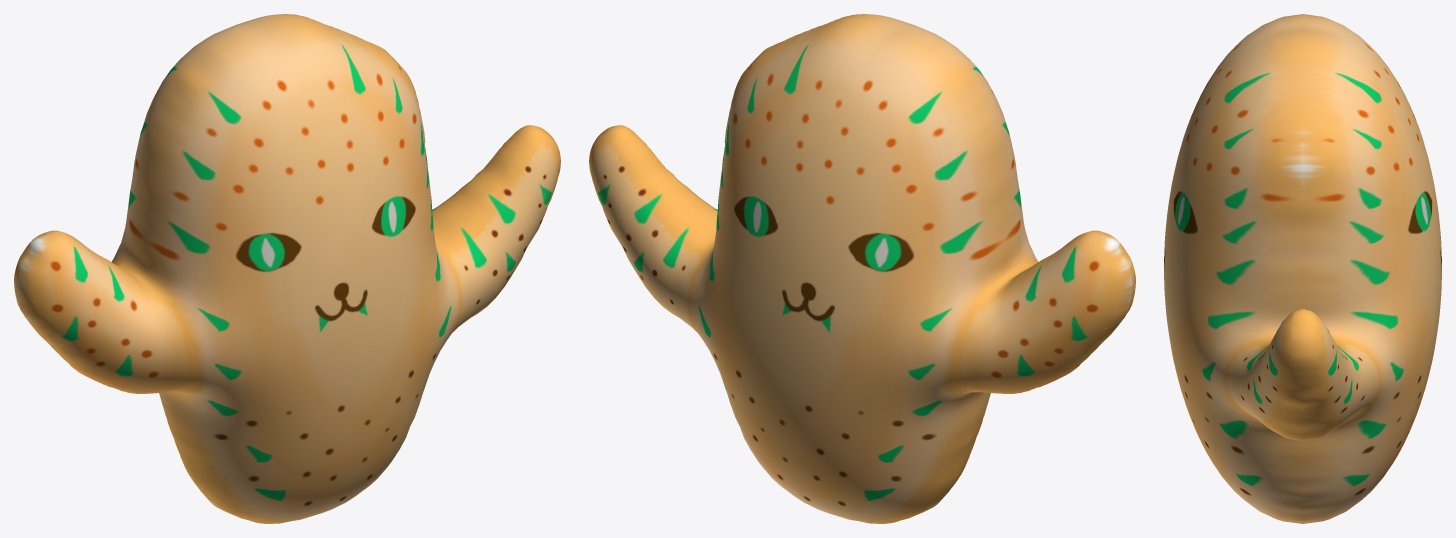
File: cactus.glb
3 views of the same model, side by side, from view 1: azimuth 30°, elevation 25°; view 2: azimuth 150°, elevation 25°; view 3: azimuth 270°, elevation 25° (orthographic). The views are drawn at different scales.
Size of the model in its own units: 5.56 by 4.84 by 2.57.
1 material, 1 textured.
